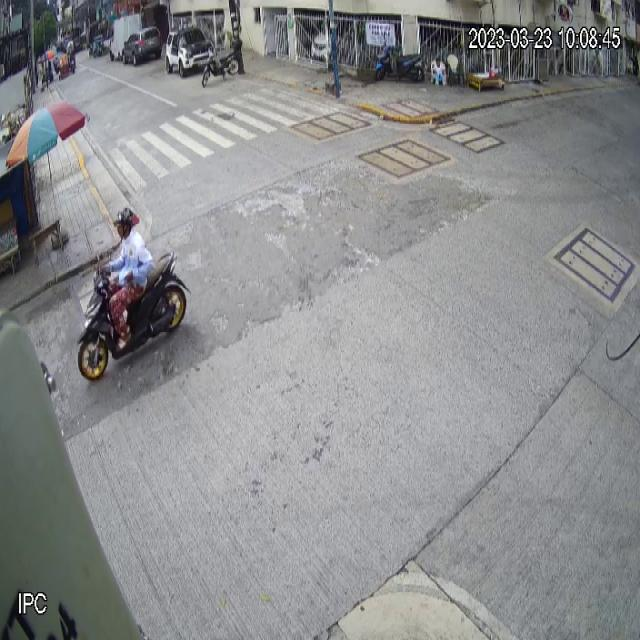Motorcycle: (75, 246, 194, 382)
